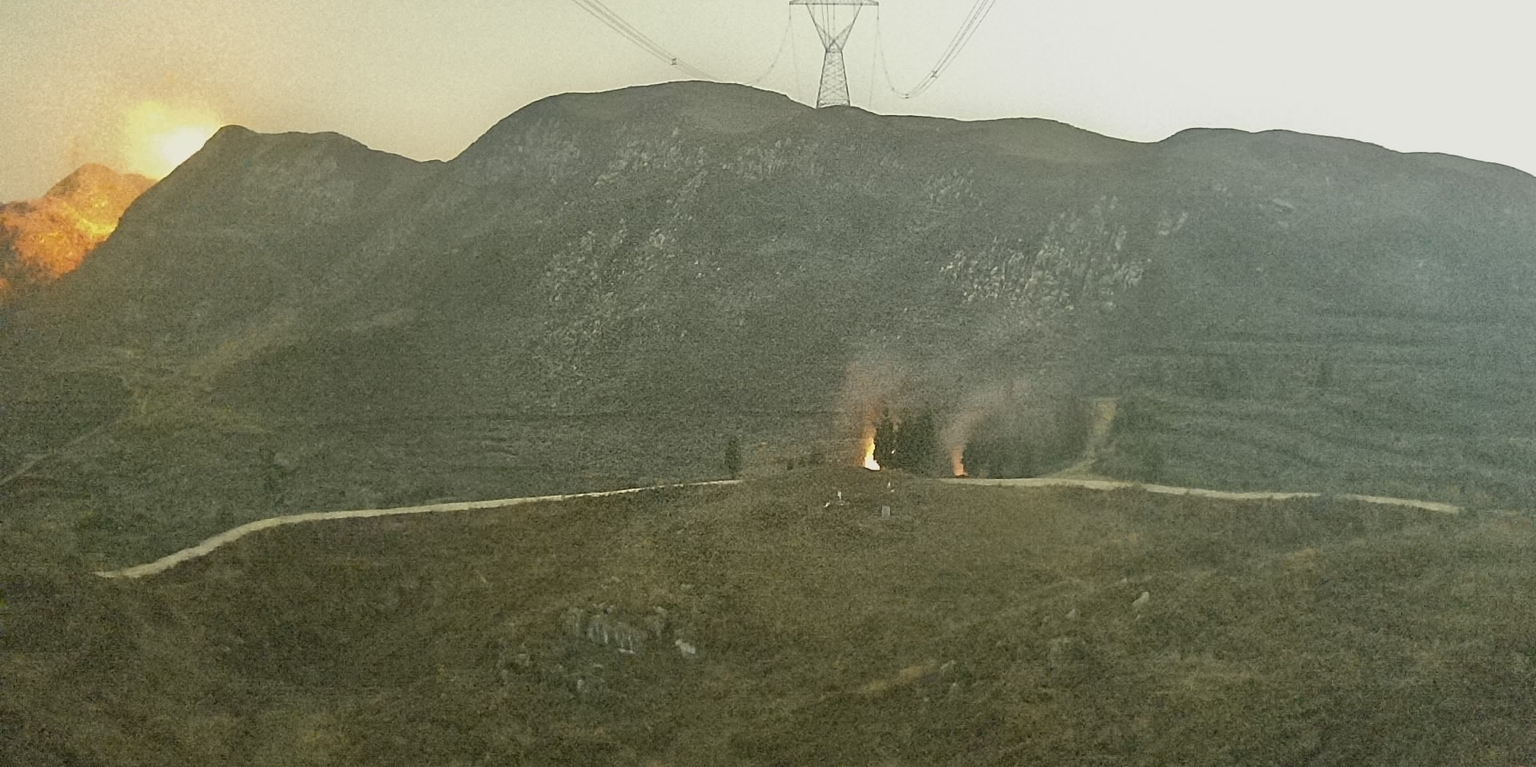山火: (124, 99, 219, 182), (62, 202, 117, 239), (864, 438, 880, 470)
烟雾: (0, 47, 237, 286), (930, 370, 1070, 475), (831, 347, 928, 470)
